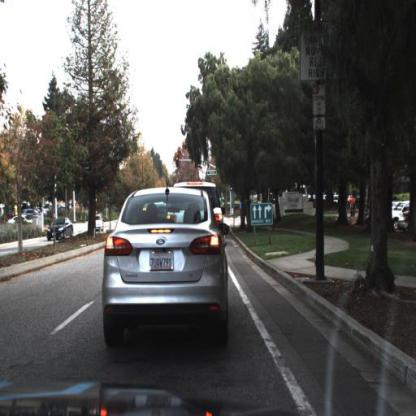car: (102, 189, 230, 350), (208, 182, 222, 225), (389, 199, 408, 230), (48, 219, 73, 242), (97, 217, 103, 232)
pedestrian: (351, 203, 356, 219), (351, 203, 355, 215)
trafficLight: (176, 157, 180, 168)
